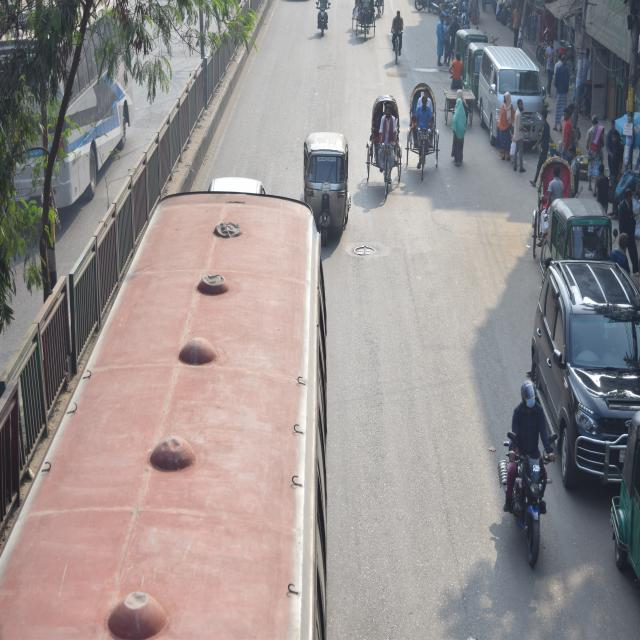bus: (0, 192, 331, 640), (0, 0, 135, 230)
car: (538, 251, 640, 491)
microbus: (480, 43, 546, 151)
motorbike: (488, 400, 554, 566), (310, 0, 338, 47)
